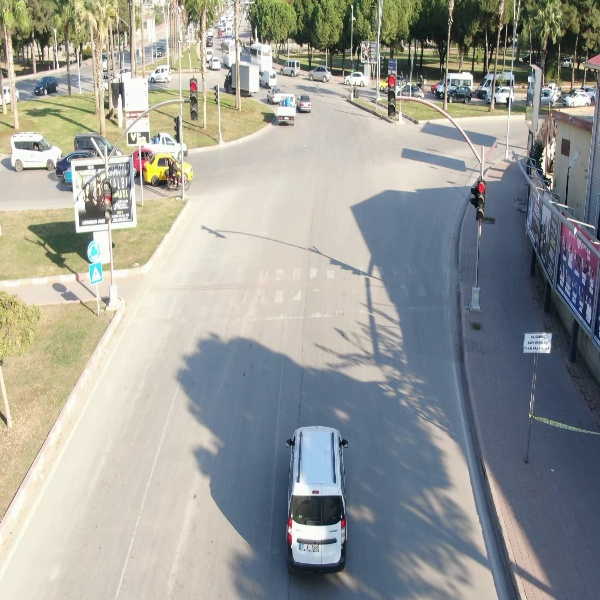car: (281, 423, 354, 576), (9, 131, 61, 177), (32, 75, 61, 99), (444, 84, 476, 105), (307, 63, 333, 85), (149, 62, 174, 84), (564, 89, 589, 111), (343, 71, 368, 91), (295, 92, 314, 117), (279, 57, 301, 78)
